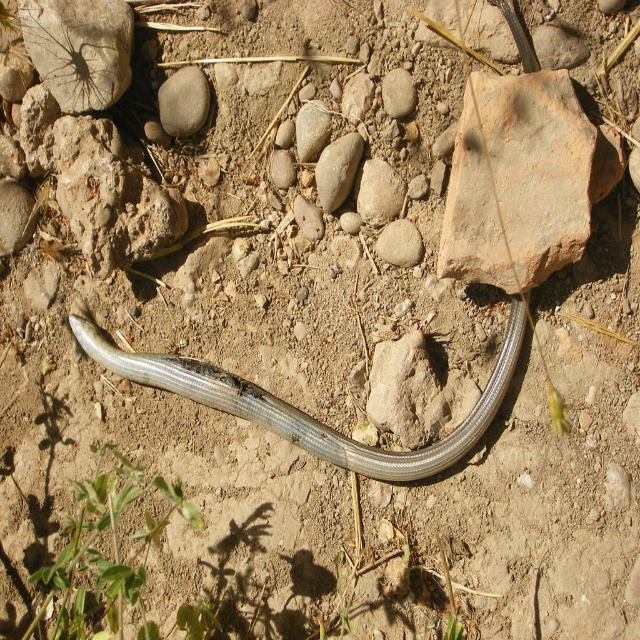Snake: (69, 287, 531, 487)
